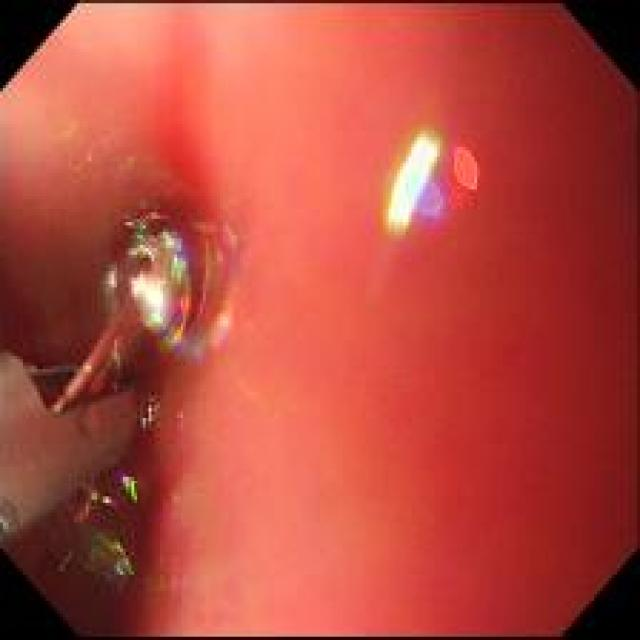color misalignment: (156, 226, 234, 355), (75, 529, 134, 588), (450, 141, 486, 199), (406, 176, 448, 220), (121, 475, 147, 526), (140, 404, 159, 430)
instrument: (2, 214, 191, 544)
specularity: (385, 137, 438, 232), (133, 277, 162, 302)
